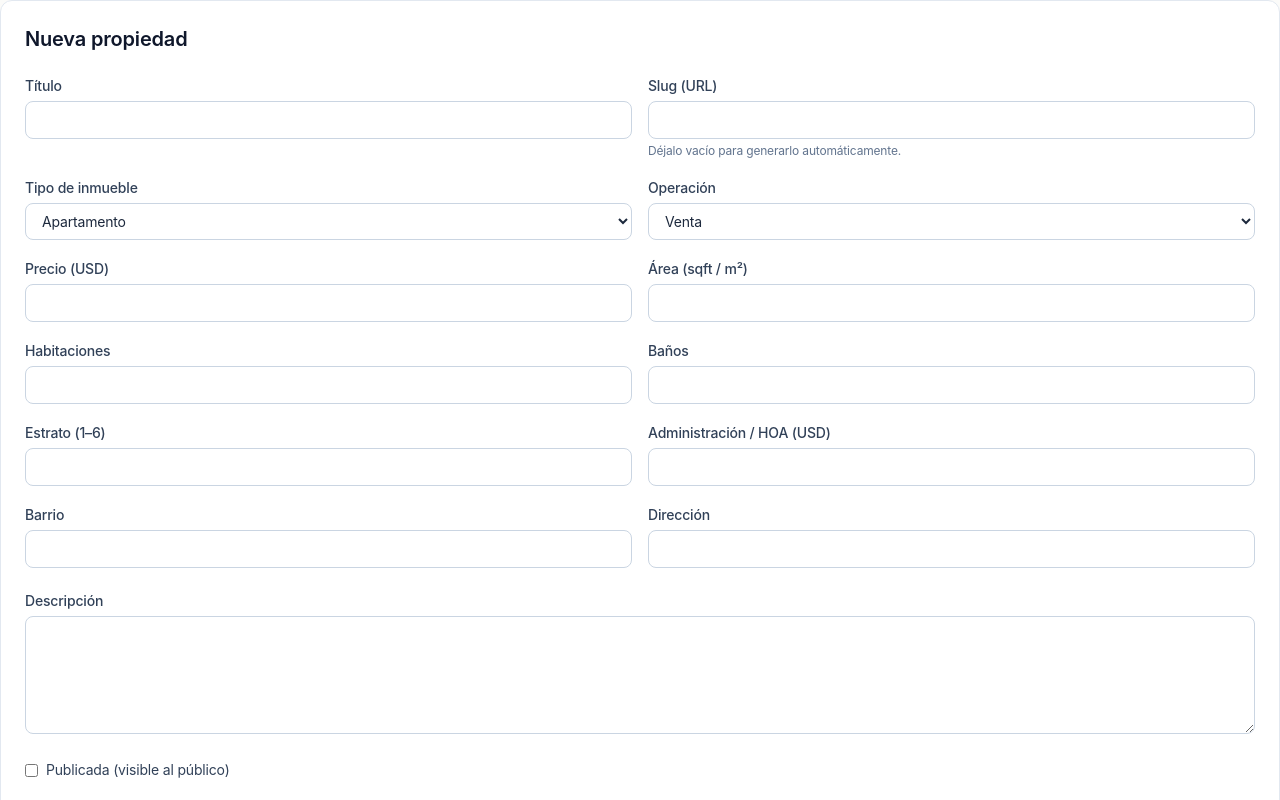
ListingForm › rejects a stratum outside 1–6
Type "Casa Granada" into the field labelled "Título" at (328, 120), box [25,101,632,139]
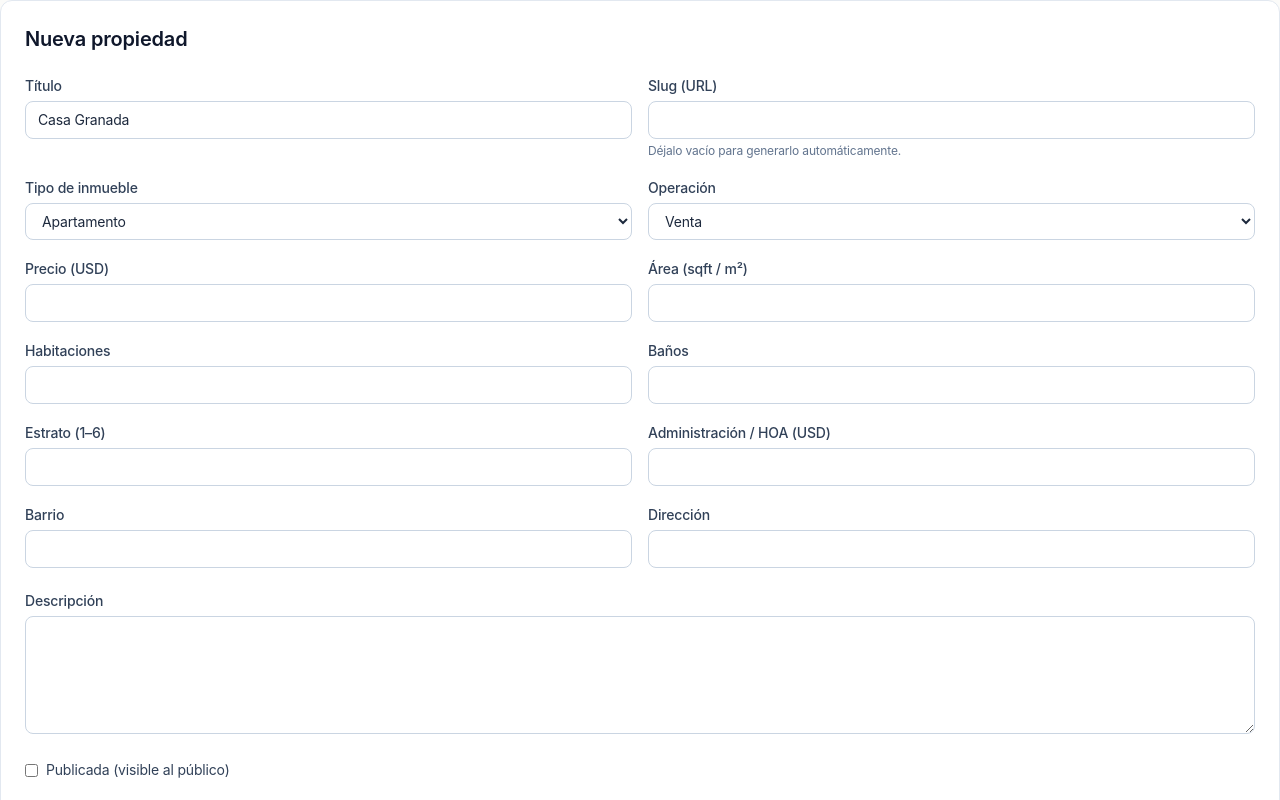
Type "450000000" into the field labelled "Precio (USD)" at (328, 303), box [25,284,632,322]
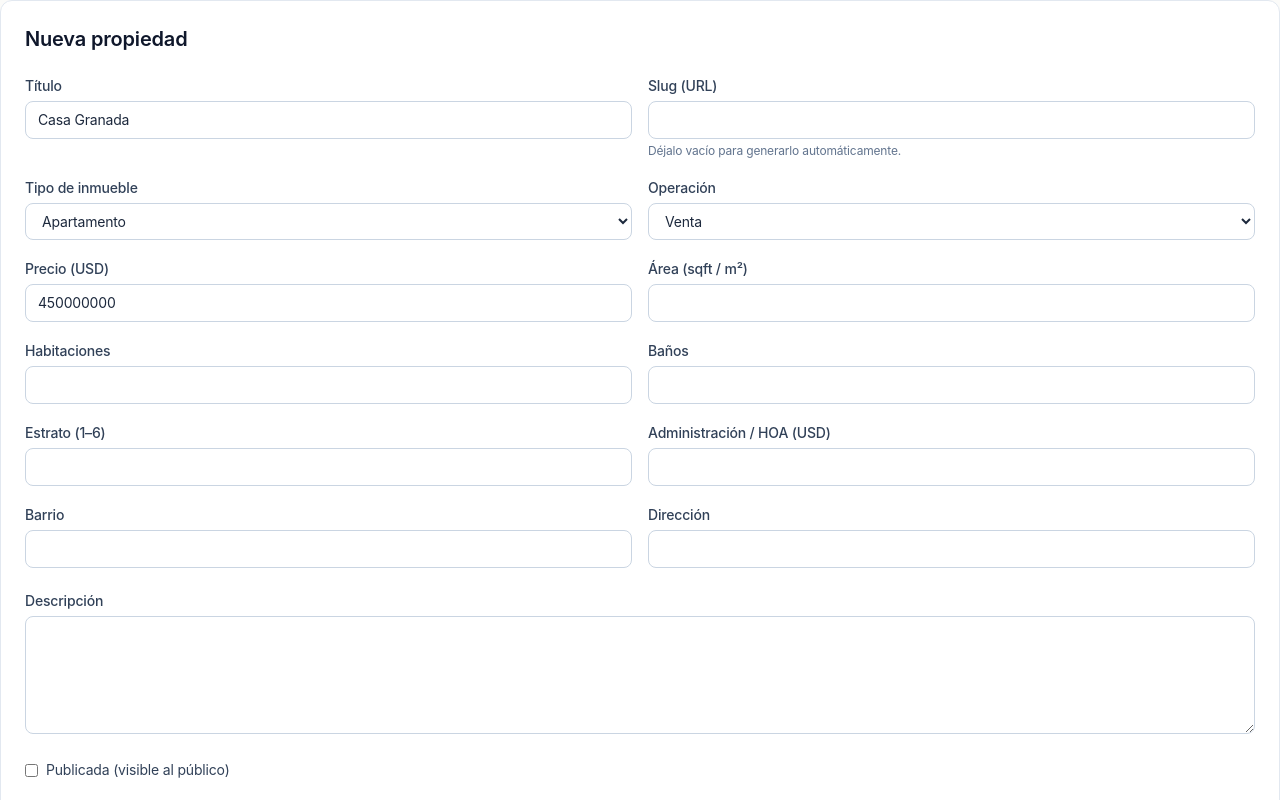
Type "Granada" into the field labelled "Barrio" at (328, 549), box [25,530,632,568]
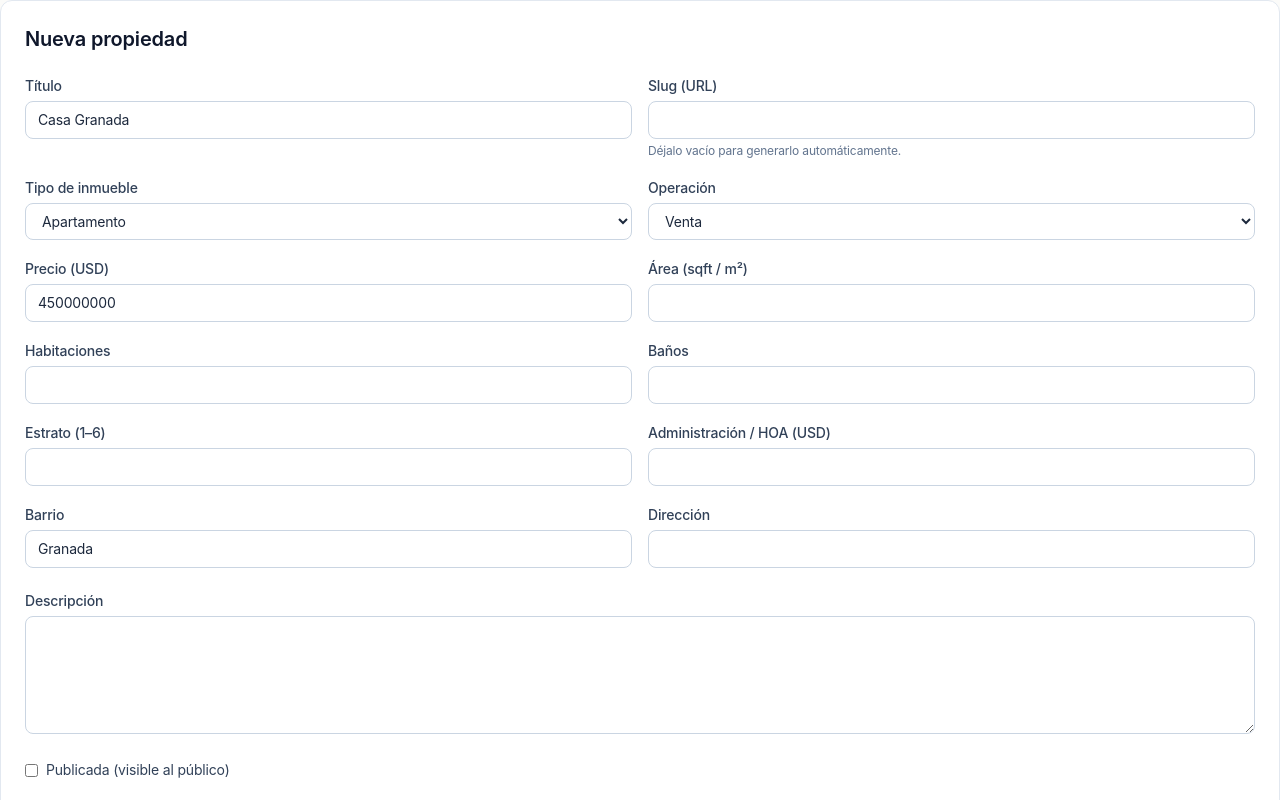
Type "9" into the field labelled "Estrato (1–6)" at (328, 467), box [25,448,632,486]
(page scrolled)
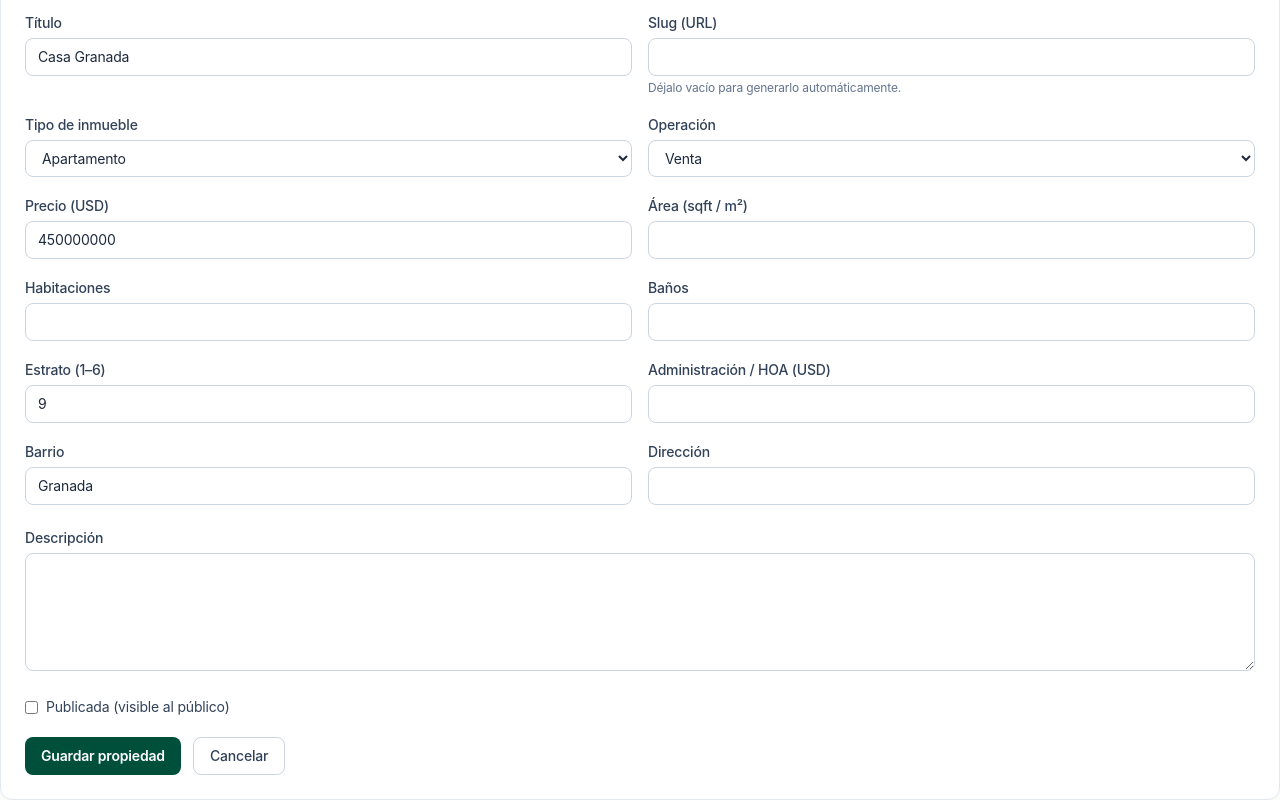
Click the button "Guardar propiedad" at (103, 756), box [25,737,181,775]
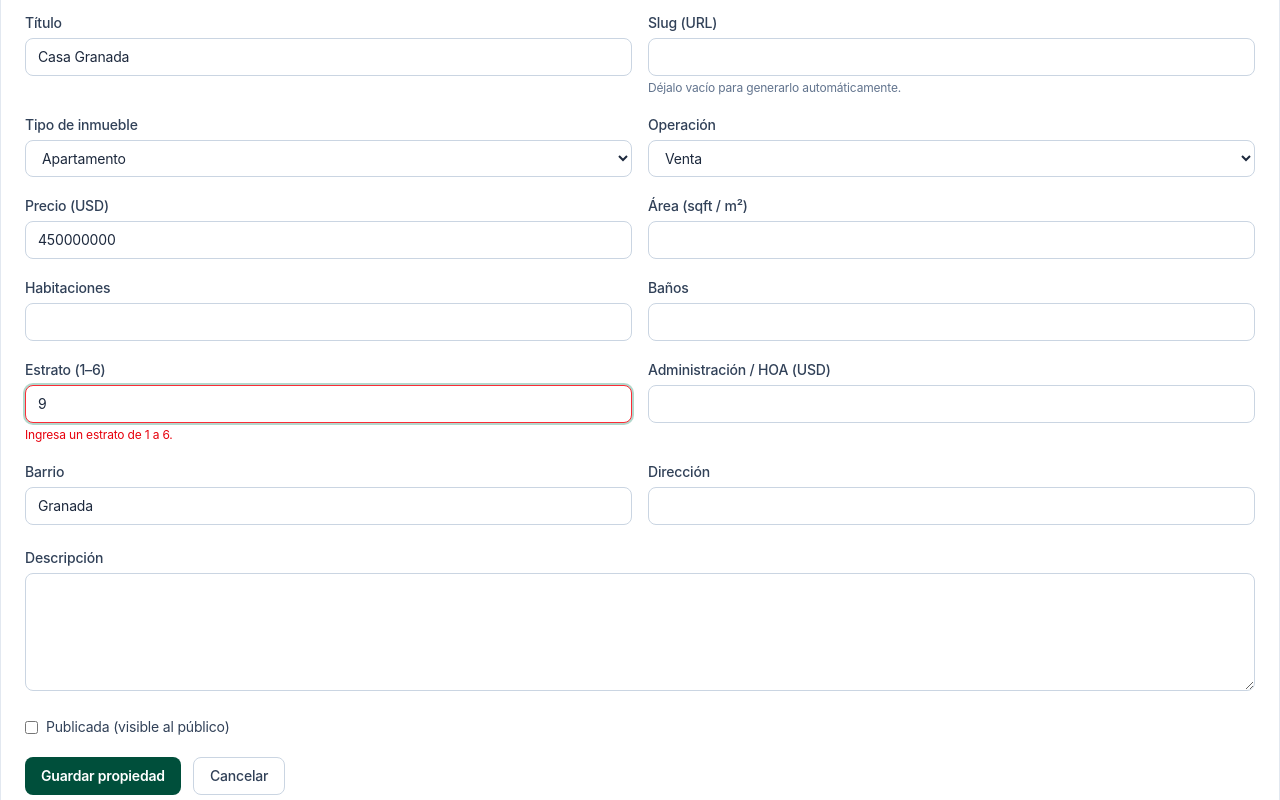
Check: the text "Ingresa un estrato de 1 a 6." is shown, box [25,427,172,442]
